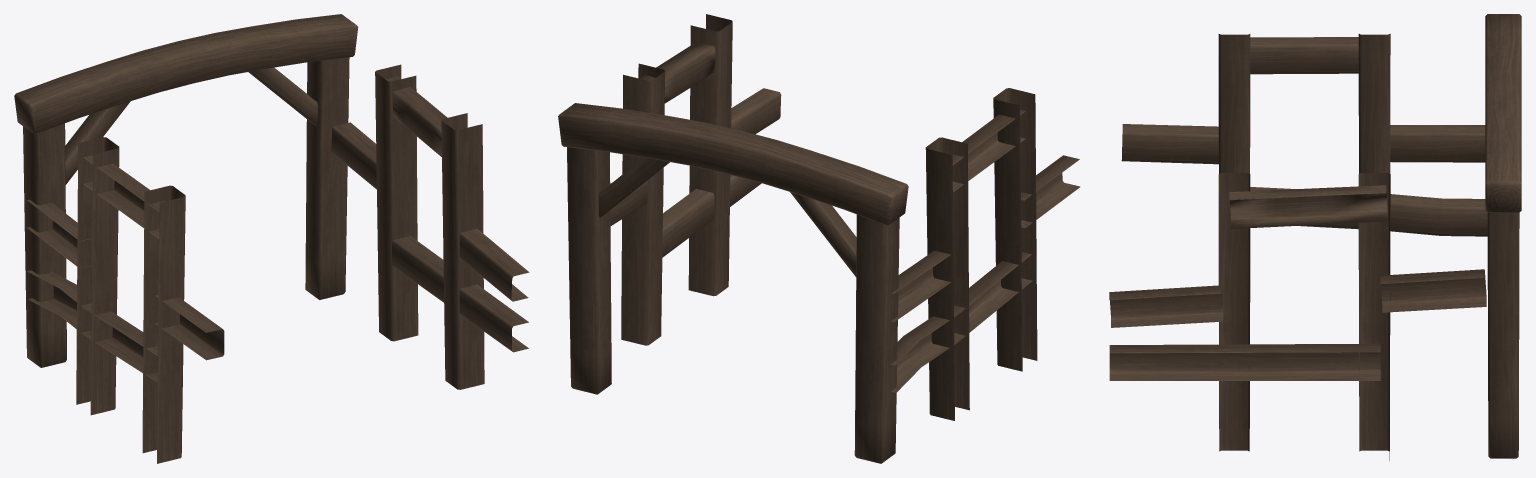
The model's file is minePath_wood3_lod.fbx.
The picture shows the model from 3 angles, left to right: view 1: azimuth 30°, elevation 25°; view 2: azimuth 150°, elevation 25°; view 3: azimuth 270°, elevation 25°; orthographic projection. The views are drawn at different scales.
Parts seen in each view (by area): view 1: shaftPath_wood3_LOD0; view 2: shaftPath_wood3_LOD0; view 3: shaftPath_wood3_LOD0.
Boxes of the visible parts, x1,y1,x2,y2 form: shaftPath_wood3_LOD0: (14, 14, 529, 463); shaftPath_wood3_LOD0: (558, 14, 1080, 463); shaftPath_wood3_LOD0: (1109, 14, 1521, 460).
Size of what is drawn, in the model's own units: 417 by 340 by 429.
